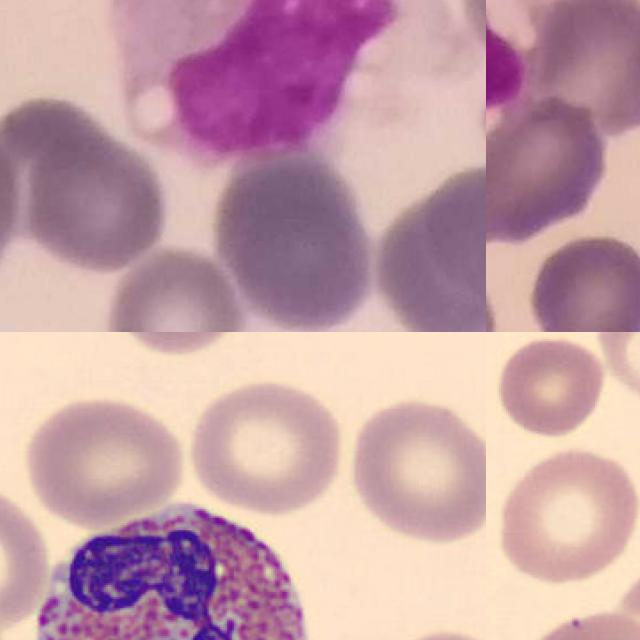Eosinophil: (20, 489, 330, 640)
Monocyte: (113, 0, 474, 167)
RBC: (17, 391, 188, 527), (182, 377, 346, 514), (344, 394, 486, 547), (492, 445, 640, 588), (492, 332, 607, 441), (0, 477, 54, 632), (517, 605, 640, 640), (102, 332, 249, 359)
